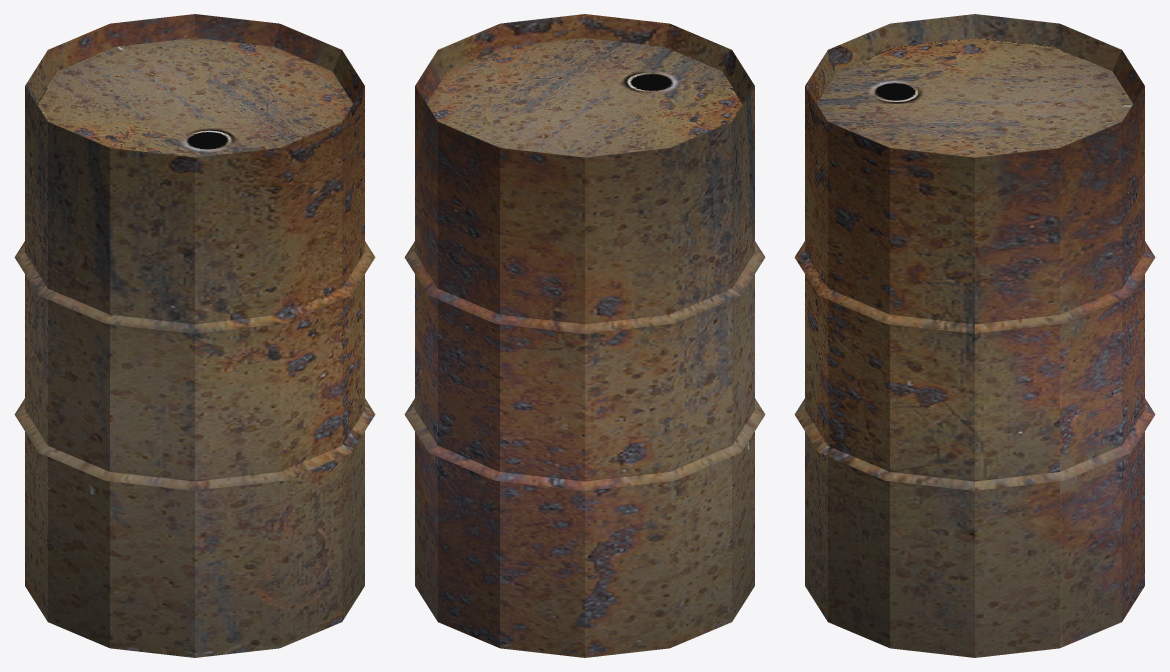
Rendered from barrel03.fbx.
3 renders of one model, left to right at view 1: azimuth 30°, elevation 25°; view 2: azimuth 150°, elevation 25°; view 3: azimuth 270°, elevation 25°, orthographic.
Visible parts, largest first — view 1: barrel03_Layer1; view 2: barrel03_Layer1; view 3: barrel03_Layer1.
Boxes of the visible parts, x1,y1,x2,y2 form: barrel03_Layer1: (14,14,375,657); barrel03_Layer1: (404,14,765,657); barrel03_Layer1: (794,14,1155,657).
Bounding box in the file's own units: 34 × 52 × 34.
Materials: 1 (1 with a texture image).
